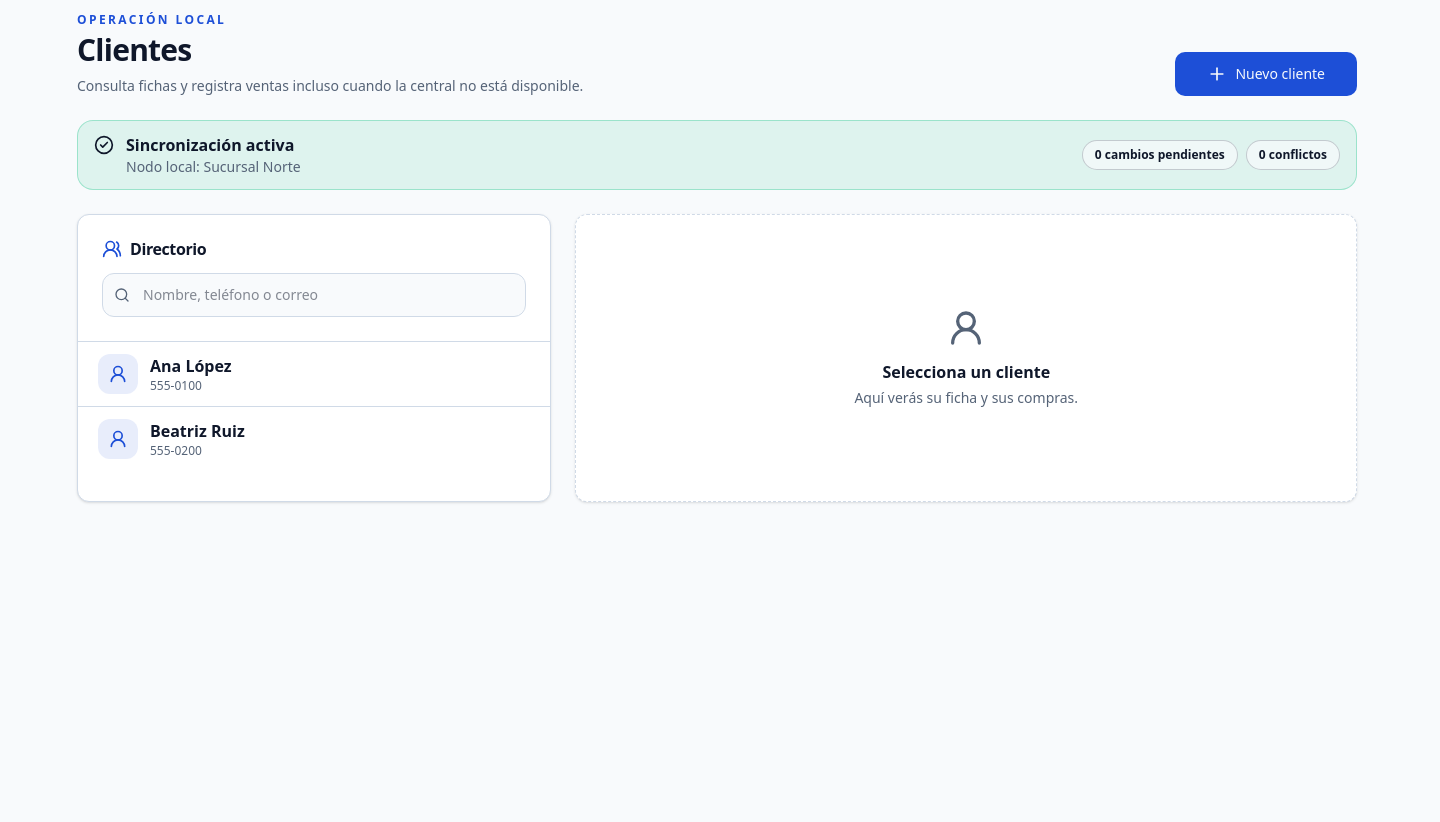
Test case: Clientes purchases and synchronization state › clears an in-progress sale when switching to another cached client
Click the button "Beatriz Ruiz 555-0200" at coordinates (118, 439), box [78,407,550,471]
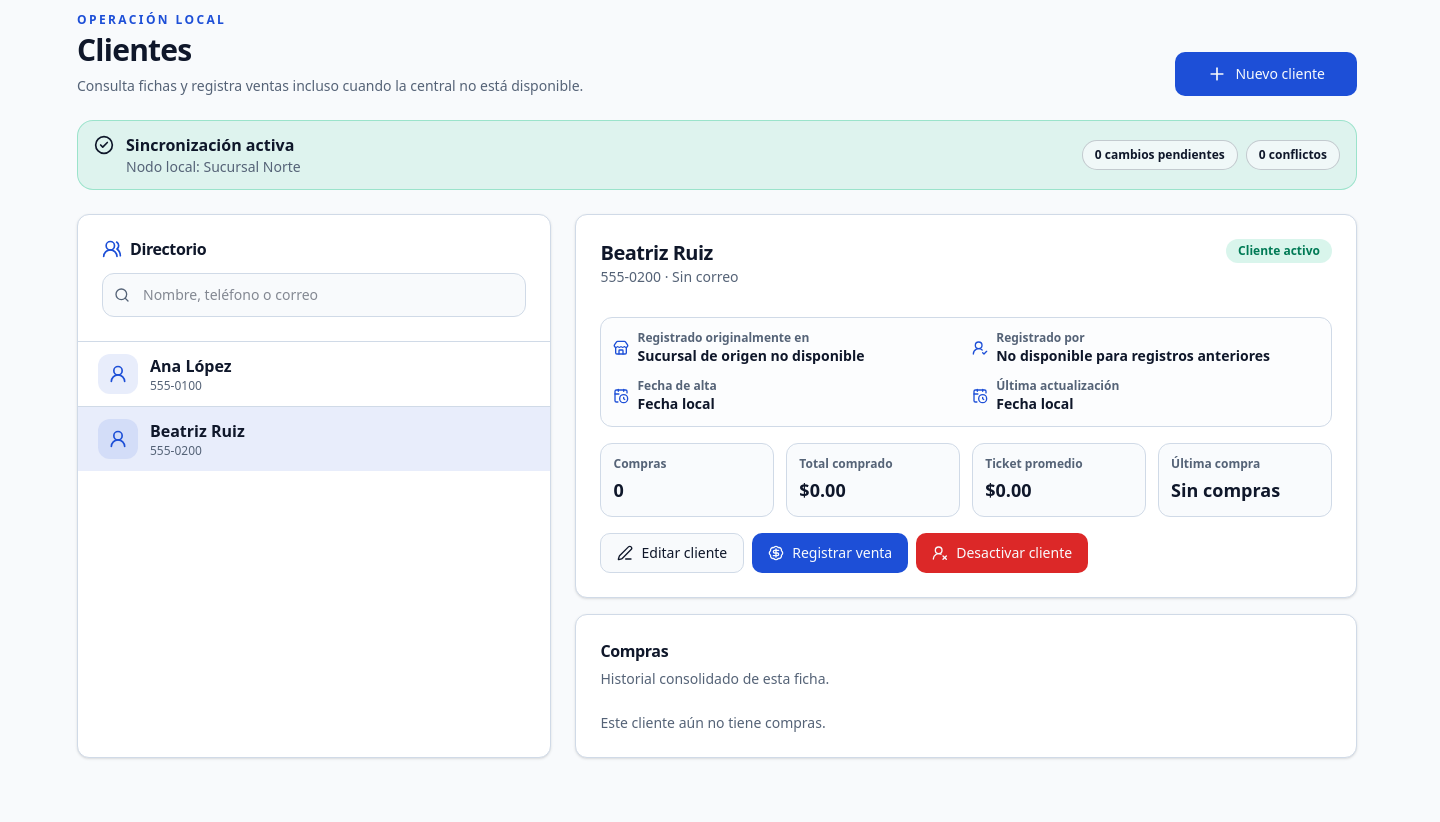
Check: the element named "ficha de Beatriz Ruiz" is shown, box [576,214,1357,758]
Click the button "Ana López 555-0100" at coordinates (118, 374), box [78,342,550,406]
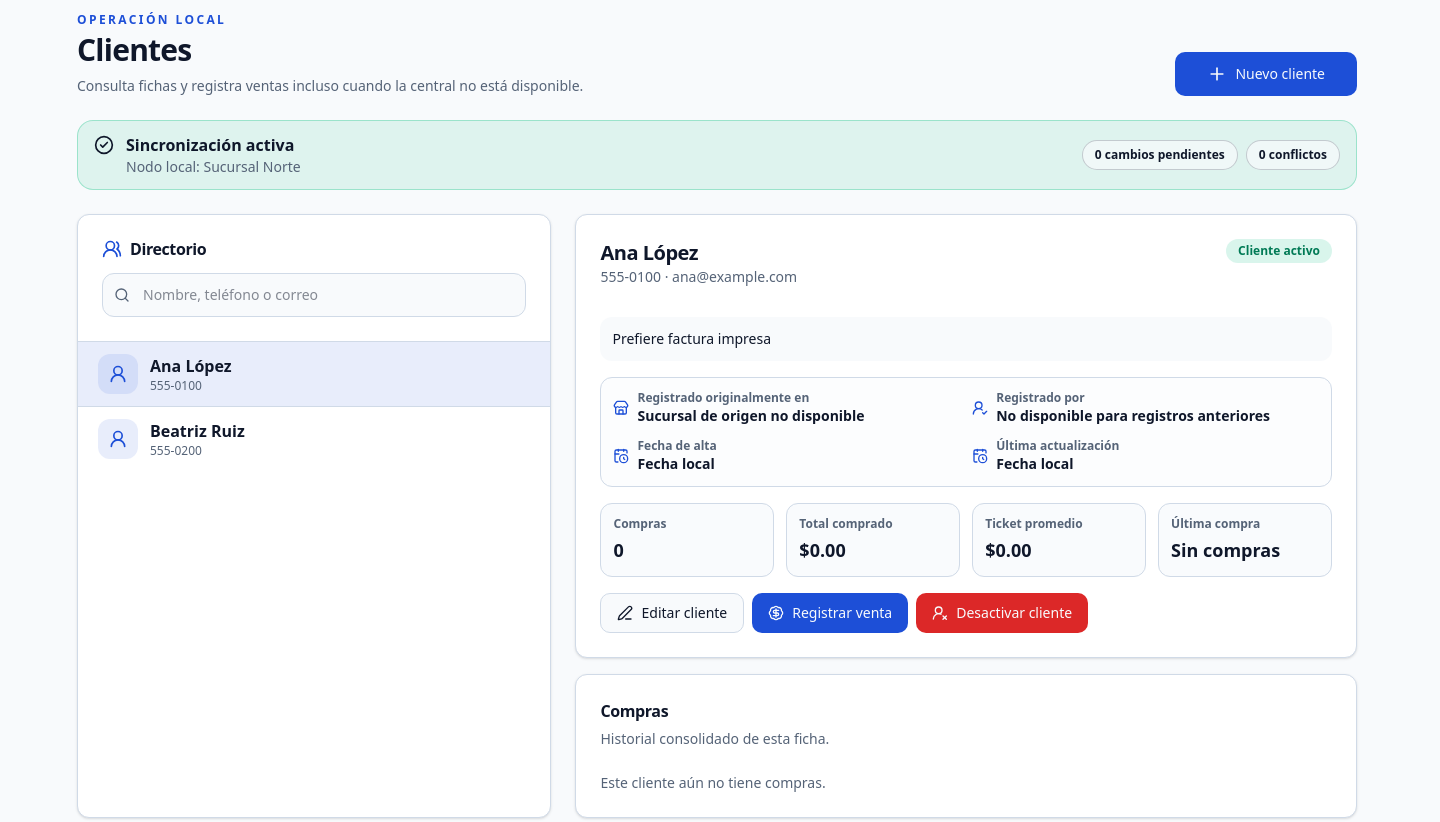
Click the button "Registrar venta" at coordinates (830, 613), box [752,593,908,633]
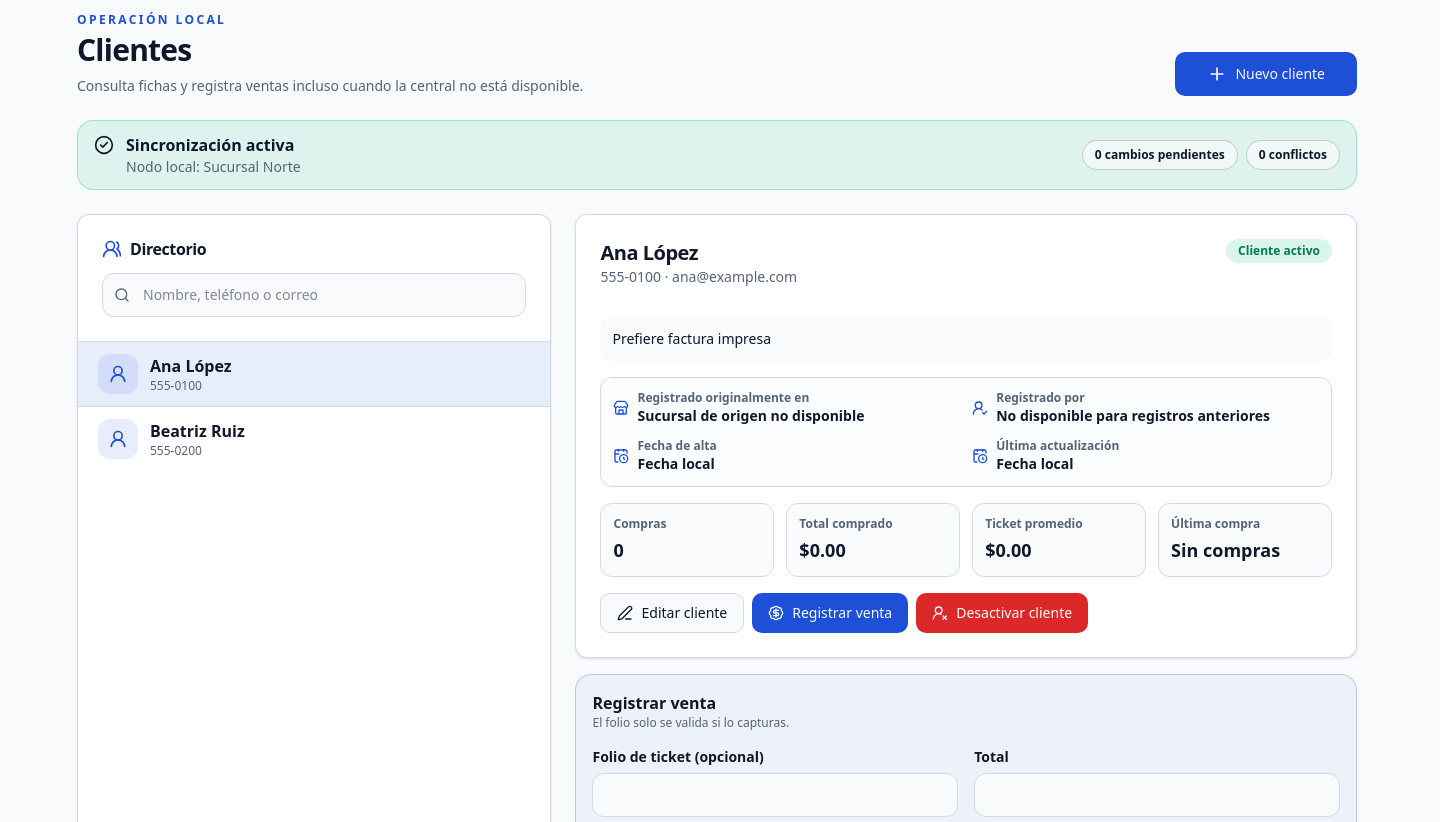
Type "A-100" into the field labelled "Folio de ticket (opcional)" at coordinates (775, 795), box [592,773,958,817]
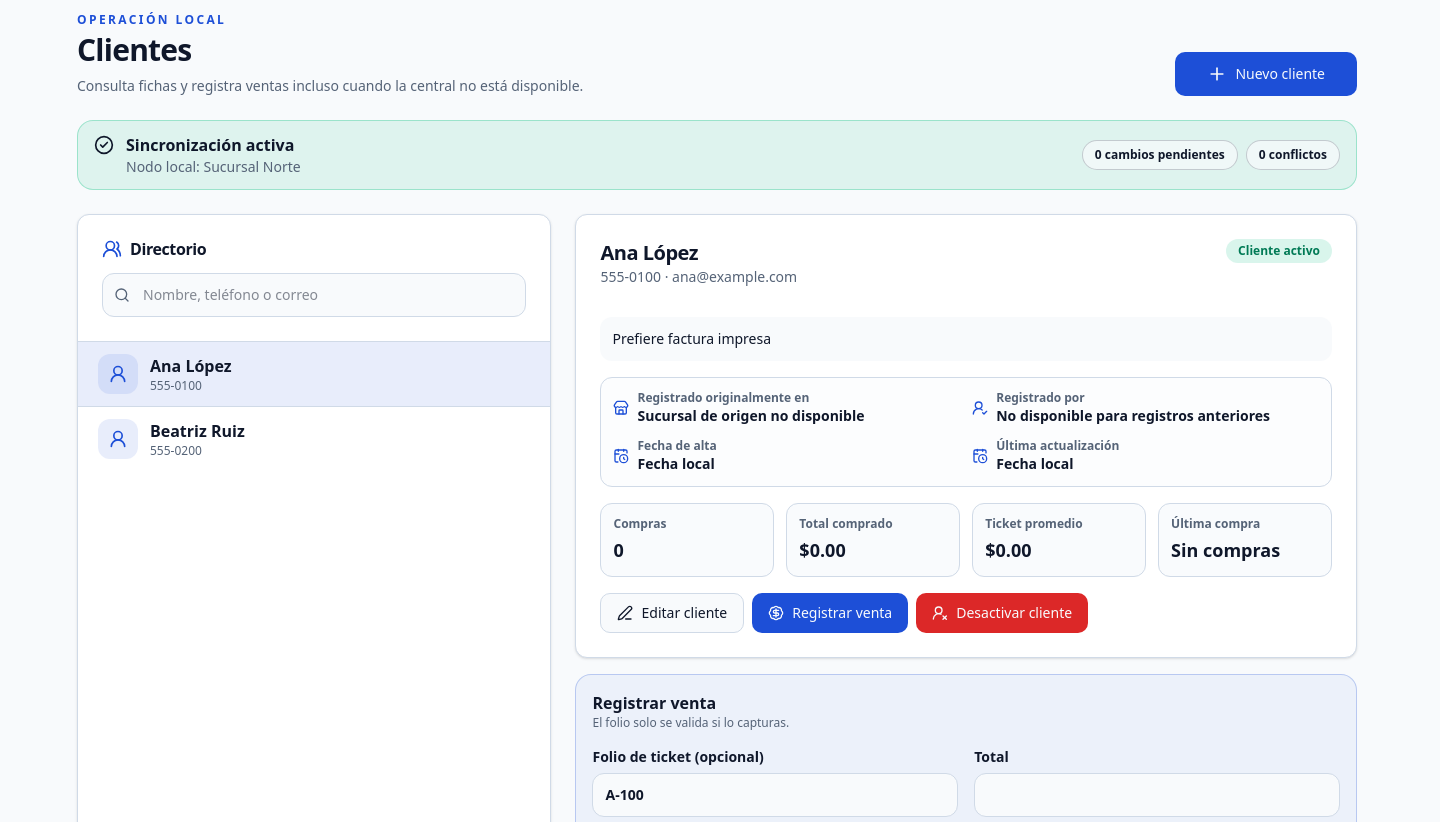
Type "80" into the number field labelled "Total" at coordinates (1157, 795), box [974,773,1340,817]
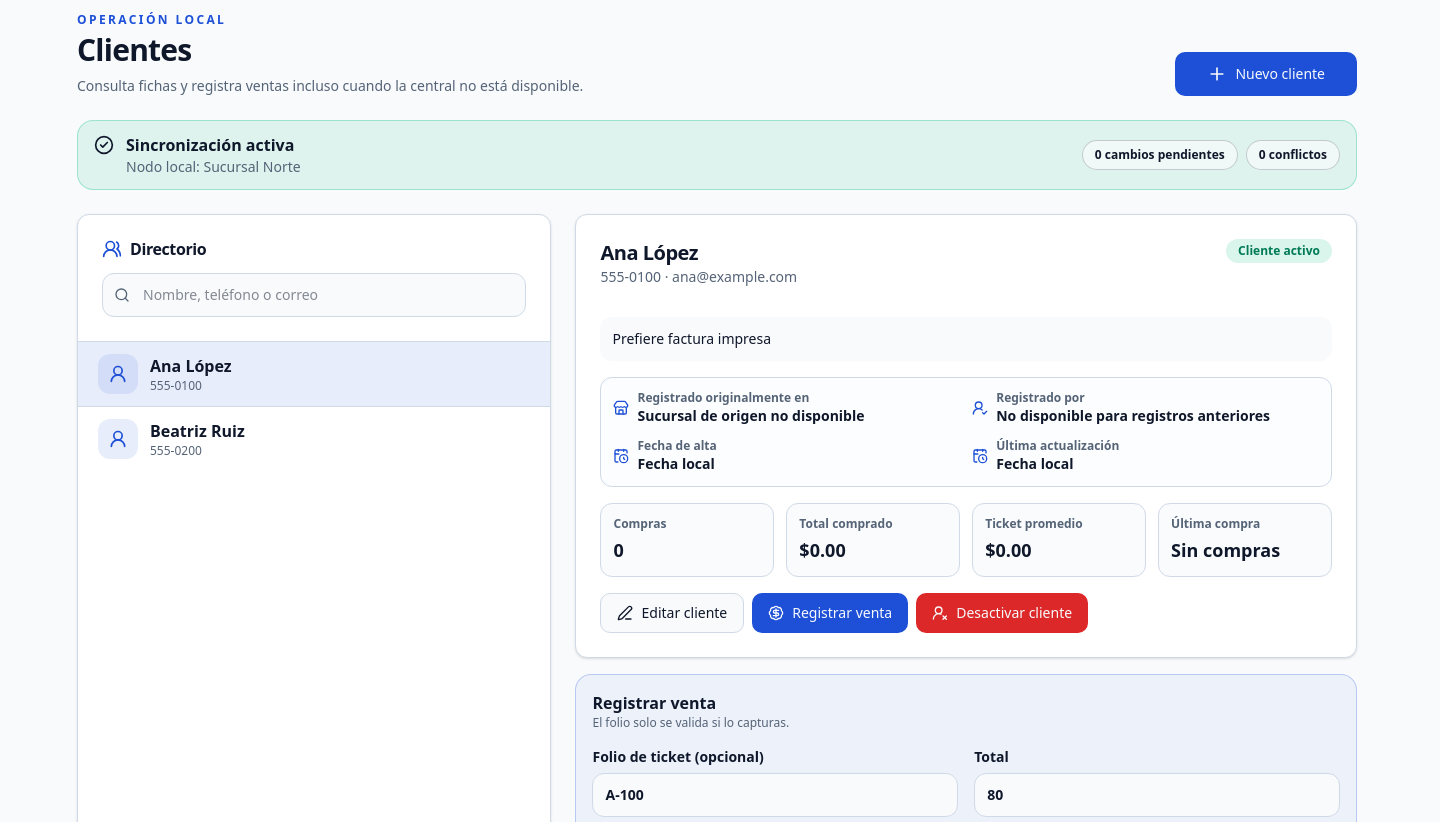
Click the button "Beatriz Ruiz 555-0200" at coordinates (118, 439), box [78,407,550,471]
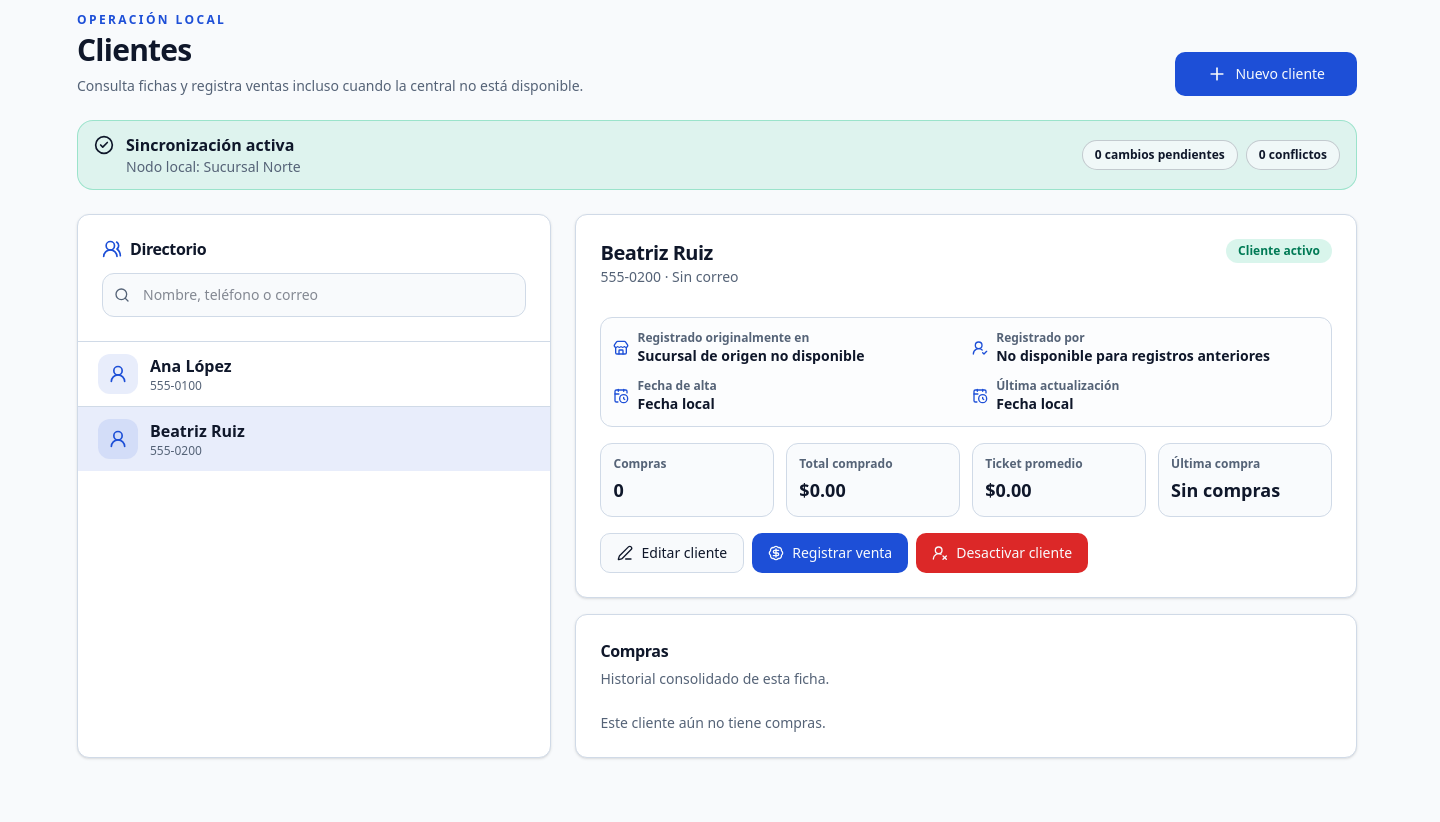
Check: the element named "ficha de Beatriz Ruiz" is shown, box [576,214,1357,758]
